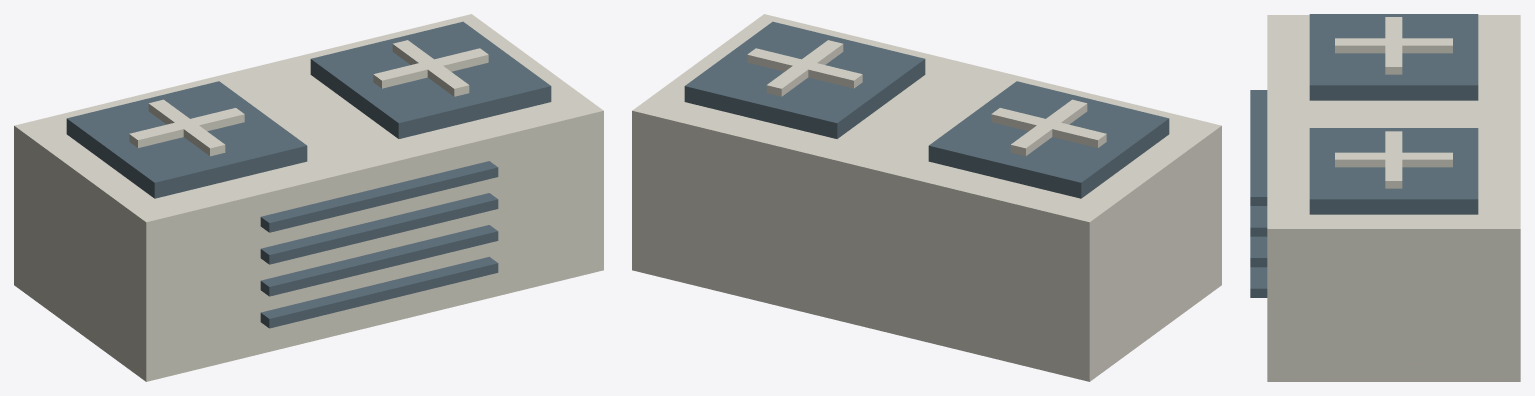
Rendered from voxel-city-districts-twin-fan-hvac-04225ea7__24920.glb.
3 views of the same model, side by side, from view 1: azimuth 30°, elevation 25°; view 2: azimuth 150°, elevation 25°; view 3: azimuth 270°, elevation 25° (orthographic). The views are drawn at different scales.
Visible parts, largest first — view 1: twin-fan-hvac-concrete, twin-fan-hvac-dark; view 2: twin-fan-hvac-concrete, twin-fan-hvac-dark; view 3: twin-fan-hvac-concrete, twin-fan-hvac-dark.
Boxes of the visible parts, x1=… form: twin-fan-hvac-concrete: x1=14, y1=14, x2=603, y2=381; twin-fan-hvac-dark: x1=66, y1=21, x2=551, y2=328; twin-fan-hvac-concrete: x1=632, y1=14, x2=1221, y2=381; twin-fan-hvac-dark: x1=684, y1=21, x2=1169, y2=198; twin-fan-hvac-concrete: x1=1267, y1=15, x2=1520, y2=381; twin-fan-hvac-dark: x1=1250, y1=14, x2=1478, y2=297.
Bounding box in the file's own units: 3 × 1.15 × 1.6.
